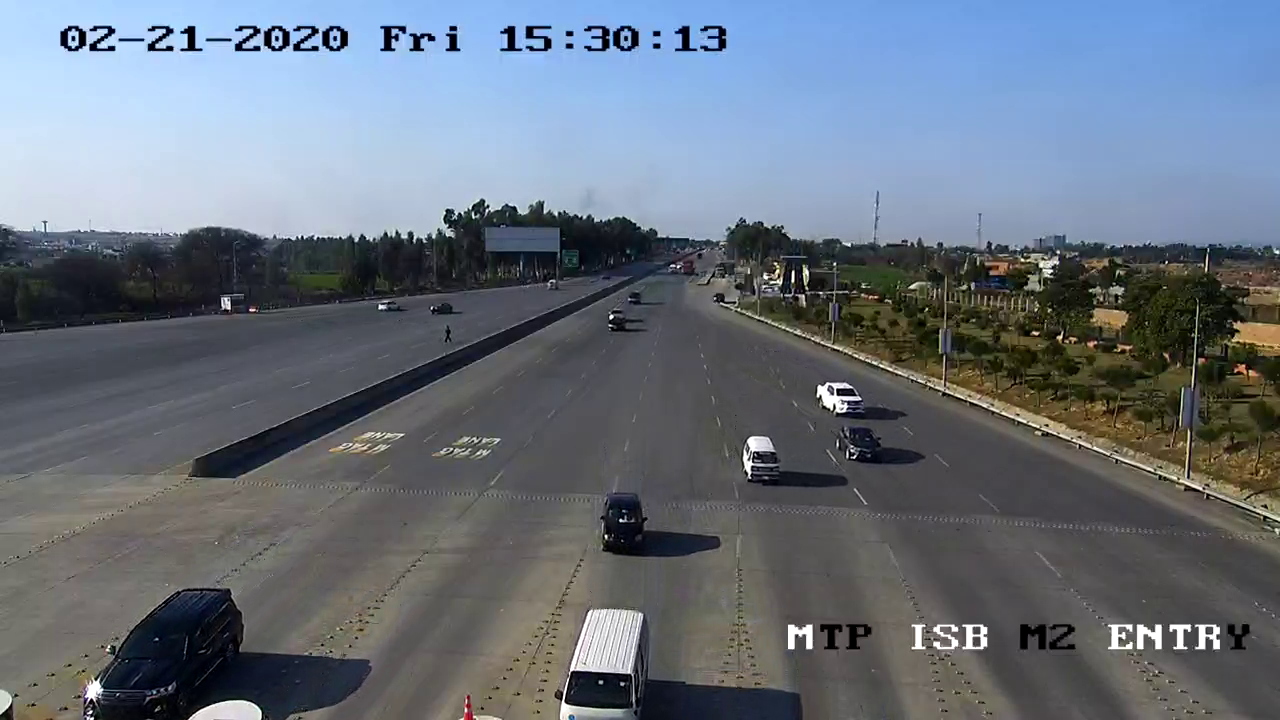f1: (57, 578, 263, 720), (722, 432, 792, 497), (601, 486, 648, 552)
